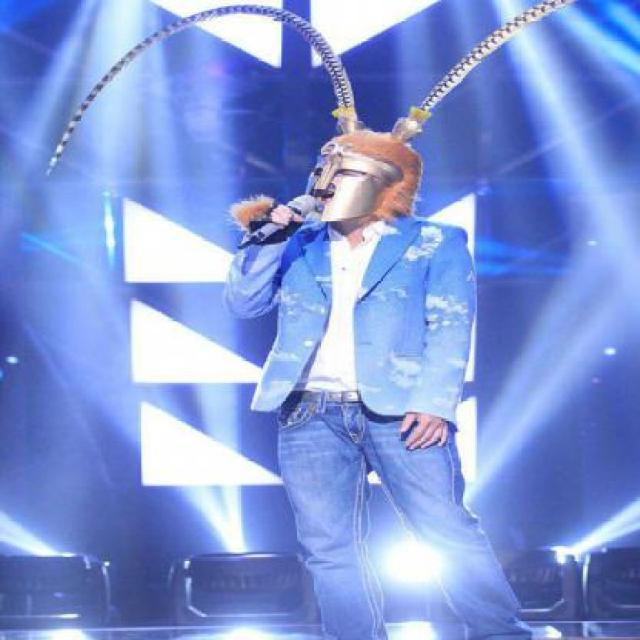Person: (200, 83, 562, 634)
